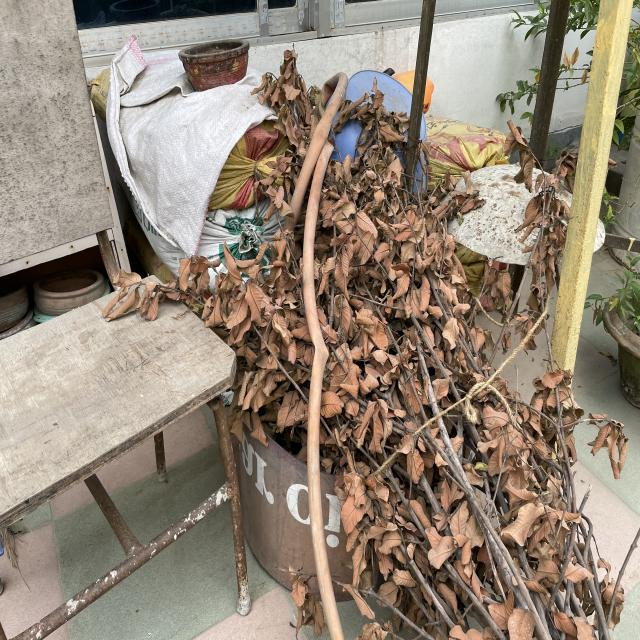Breeding Place: (584, 277, 640, 409), (172, 30, 255, 102)
